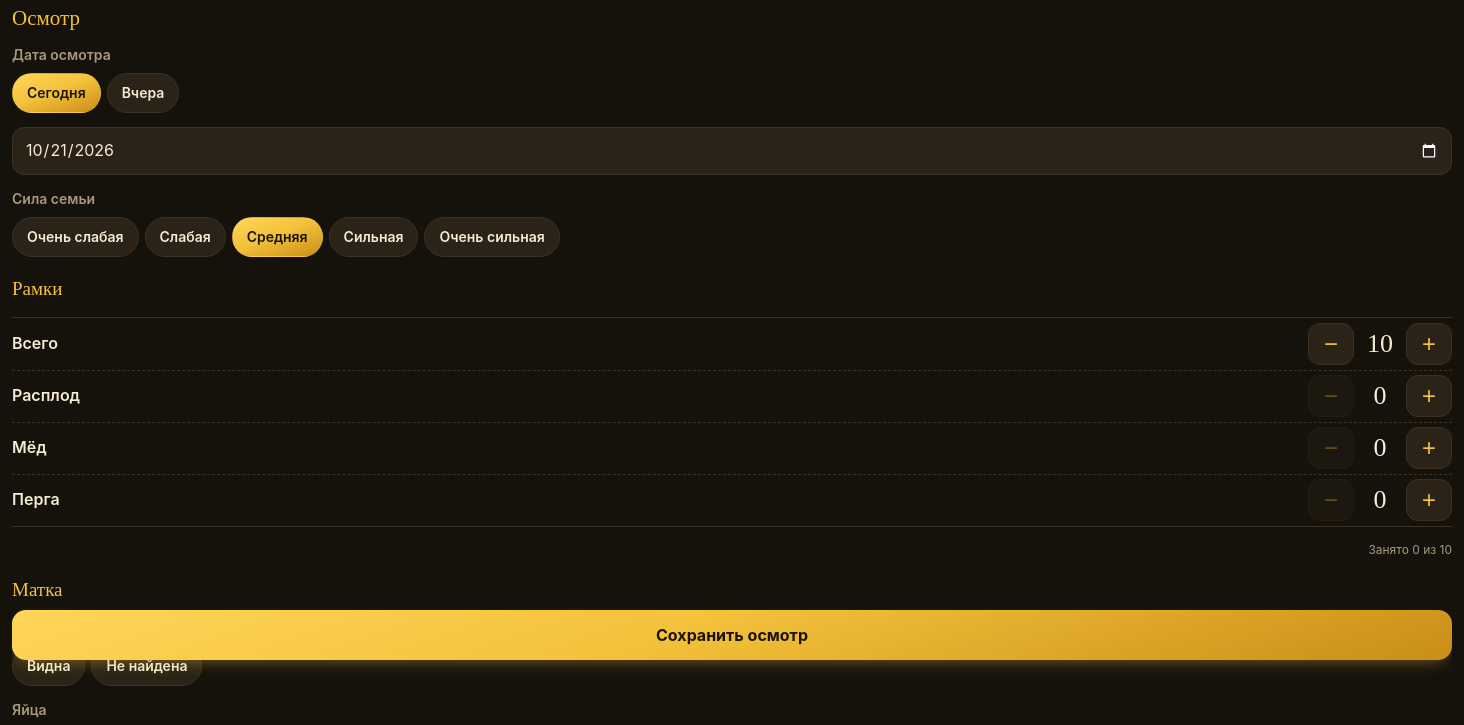
Full inspection at the hive › saves with one tap as a dated record and offers the next hive
Expected: the button "Сохранить осмотр" is shown, [12,610,1452,660]
What coordinates should you click on to do the following:
click the radio button labelled "Вчера"
I would click on:
 (143, 94)
Its box is [107,74,179,114].
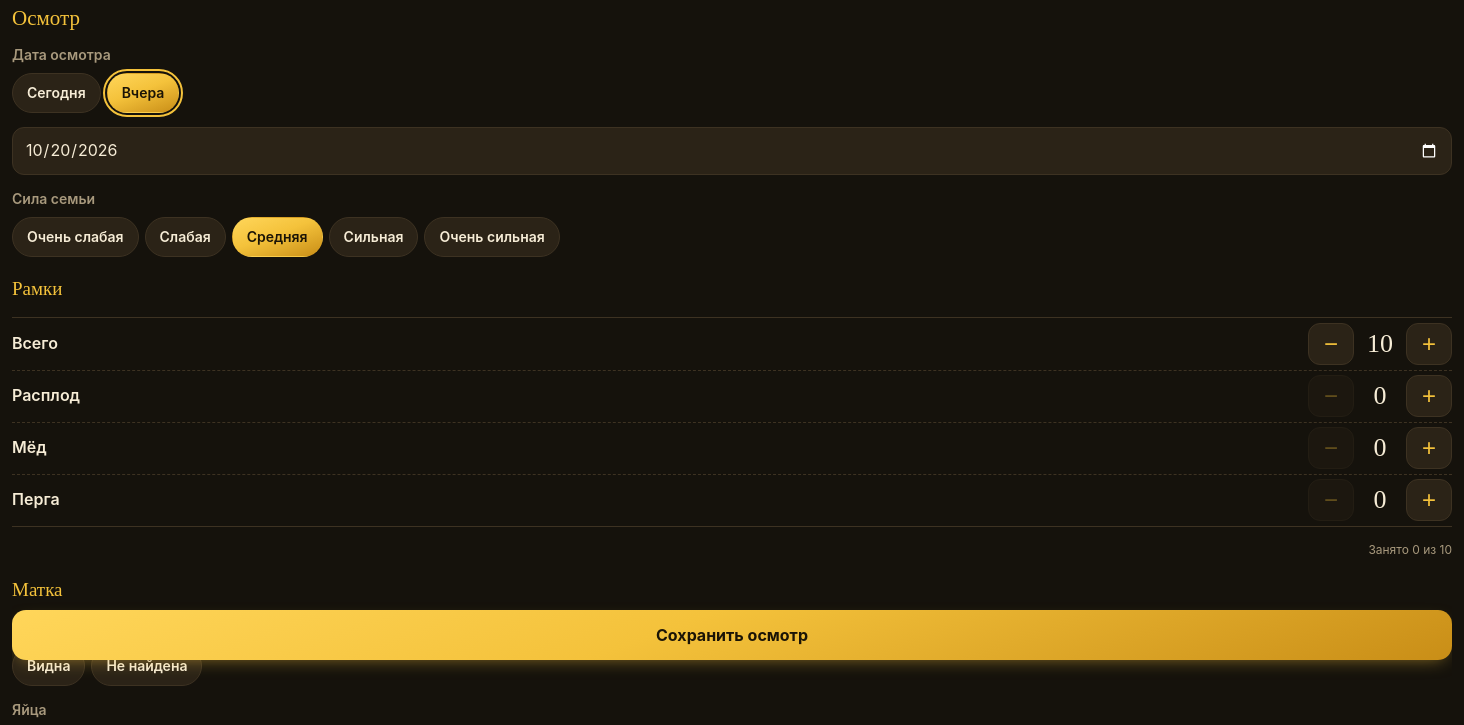
What coordinates should you click on to do the following:
click the radio button labelled "Видна"
I would click on:
 (49, 666)
Its box is [12,646,85,686].
(page scrolled)
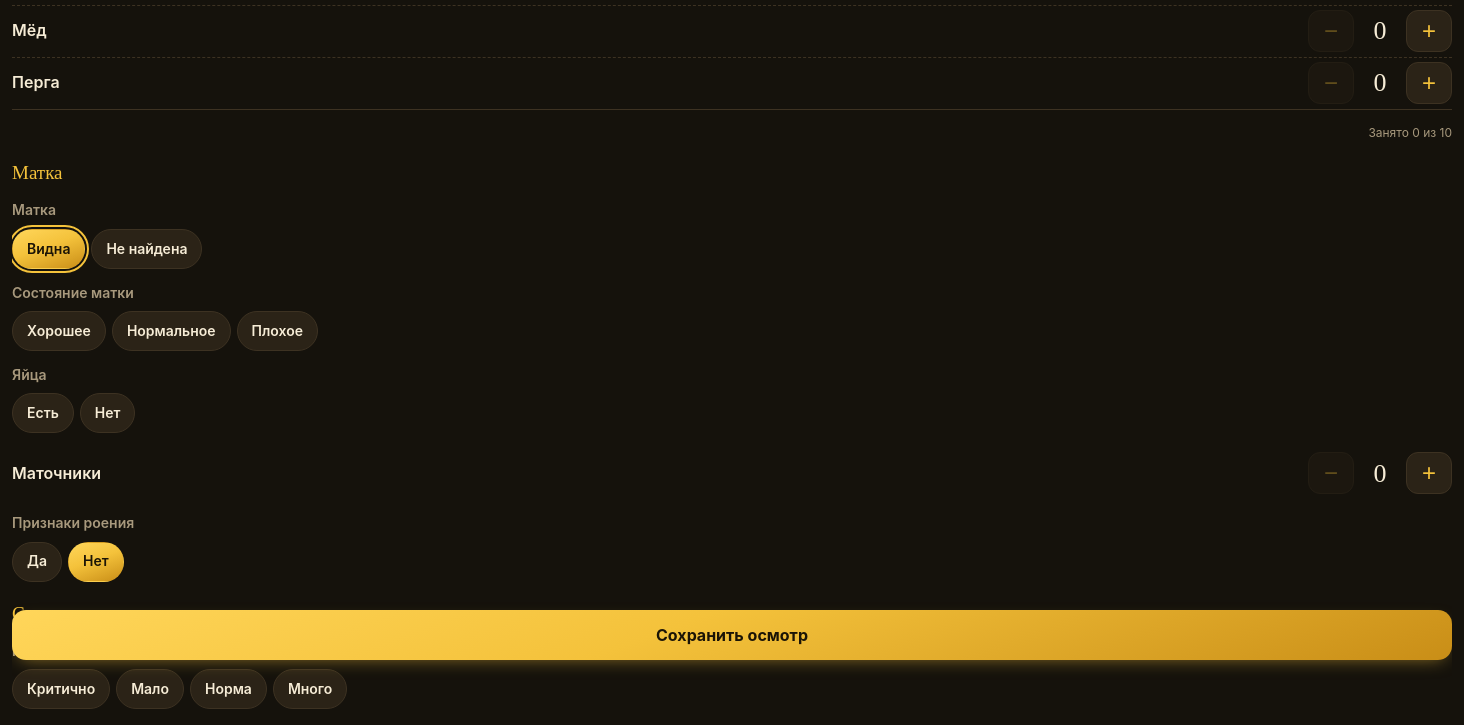
What coordinates should you click on to do the following:
click the radio button labelled "Хорошее"
I would click on:
 (59, 331)
Its box is [12,311,106,351].
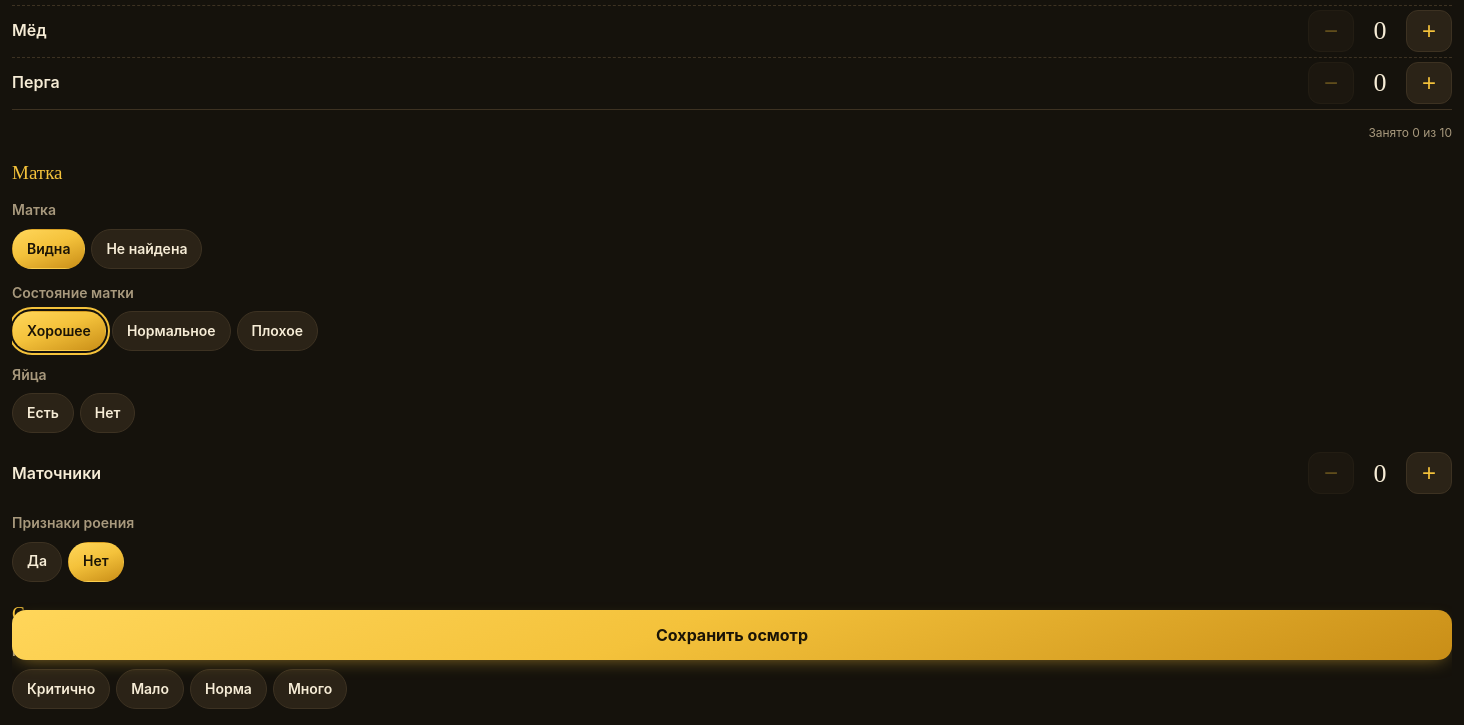
What coordinates should you click on to do the following:
click the radio button labelled "Да"
I would click on:
 (37, 562)
Its box is [12,542,62,582].
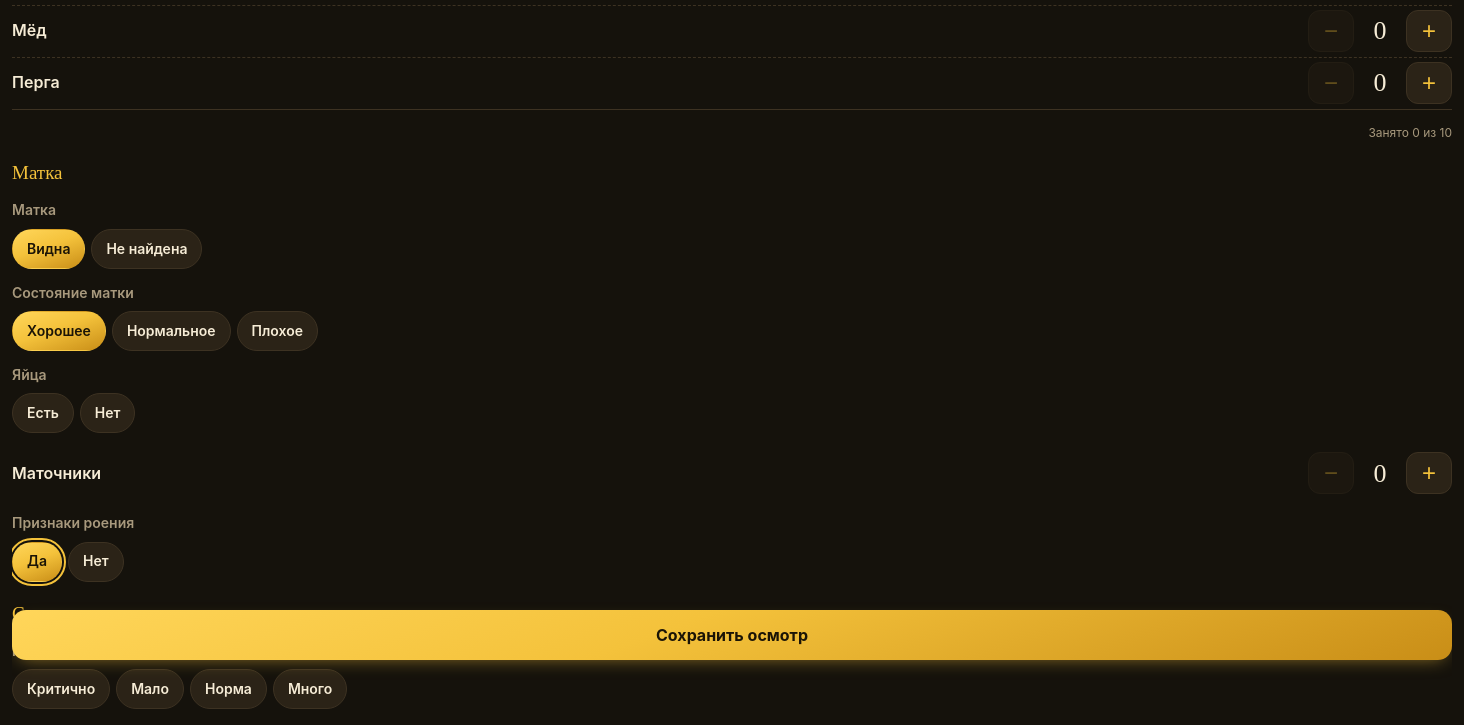
What coordinates should you click on to do the following:
click the button "Сохранить осмотр"
I would click on:
 (732, 635)
Its box is [12,610,1452,660].
(page scrolled)
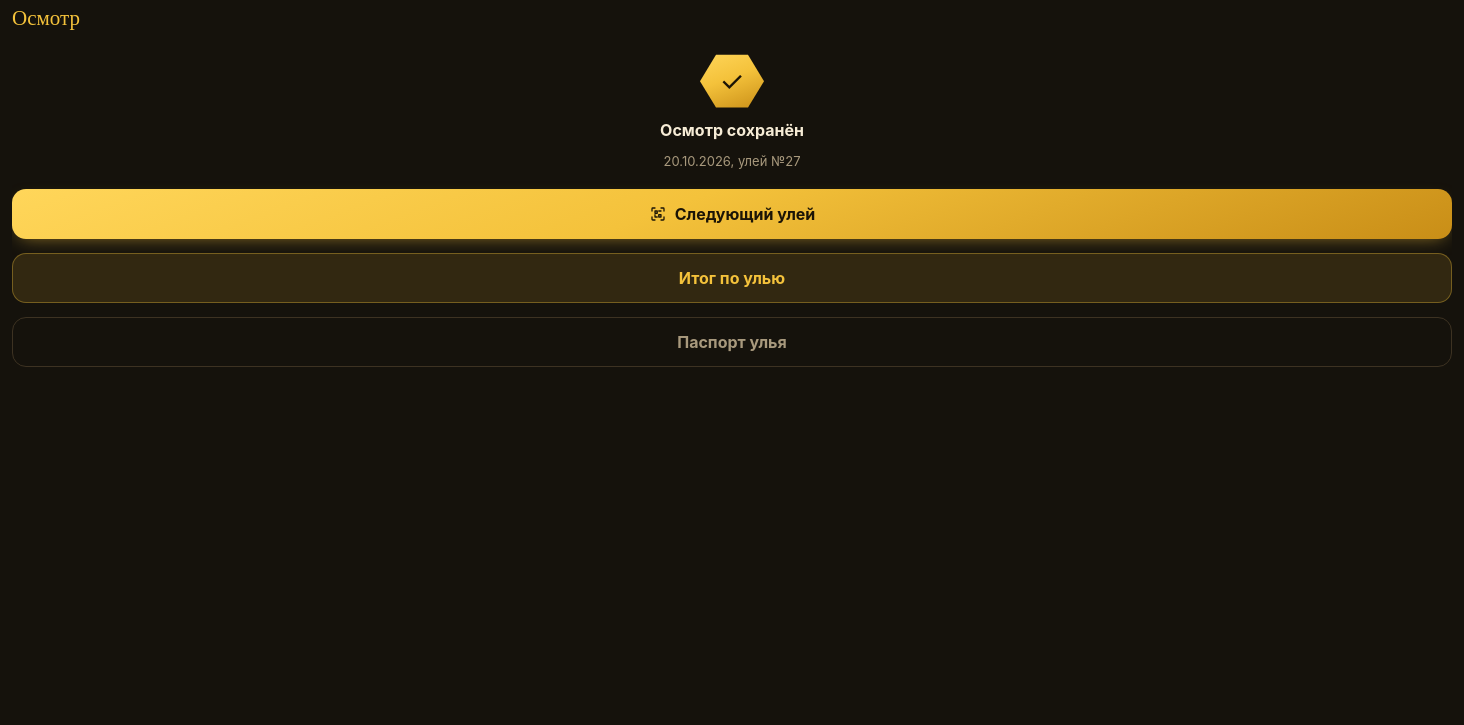
Expected: the text "Осмотр сохранён" is shown, [660,119,804,142]
